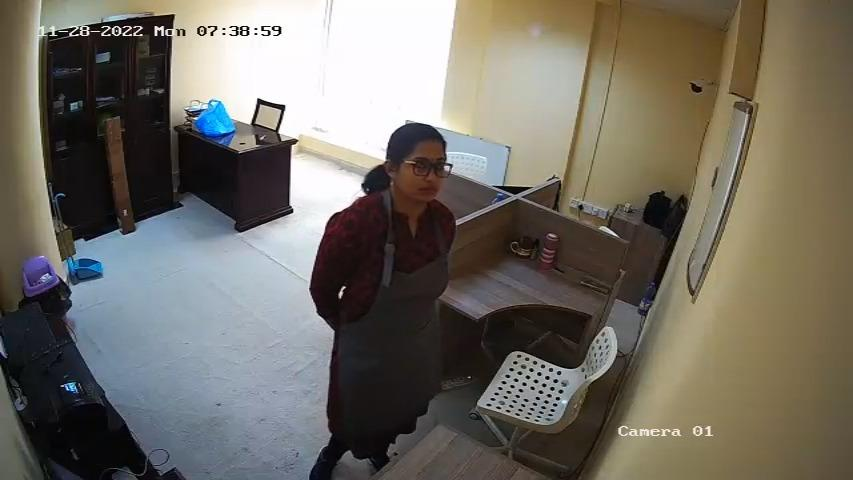apron: (347, 206, 449, 400)
